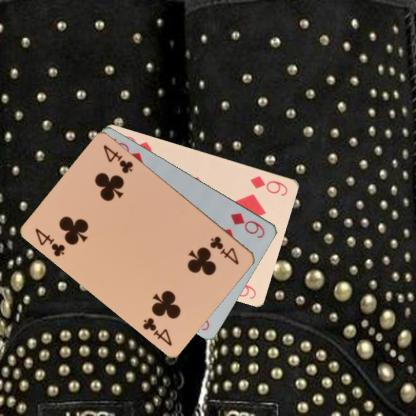4c: (207, 233, 241, 266), (33, 226, 67, 258)
6d: (228, 210, 267, 240), (247, 173, 290, 197)
